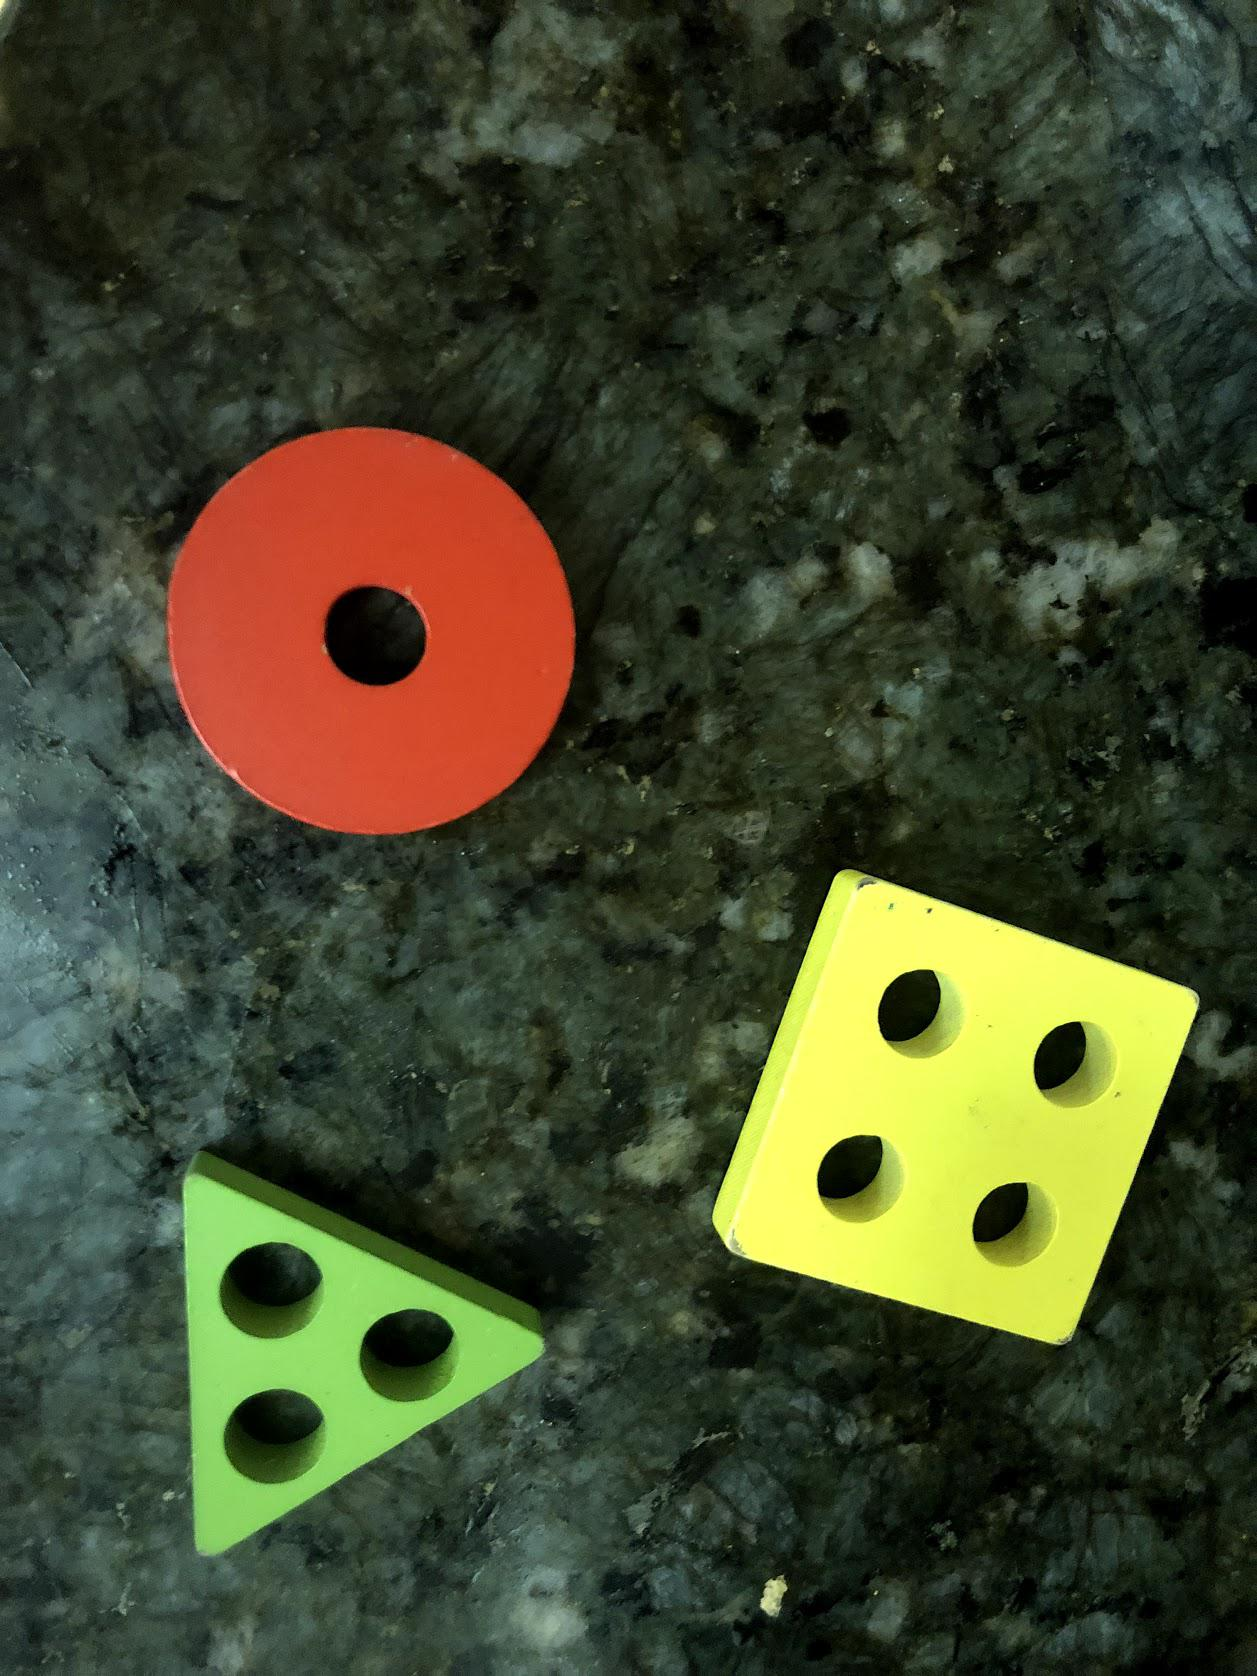Circle: (166, 420, 586, 834)
Square: (712, 870, 1206, 1349)
Triangle: (180, 1156, 555, 1569)
